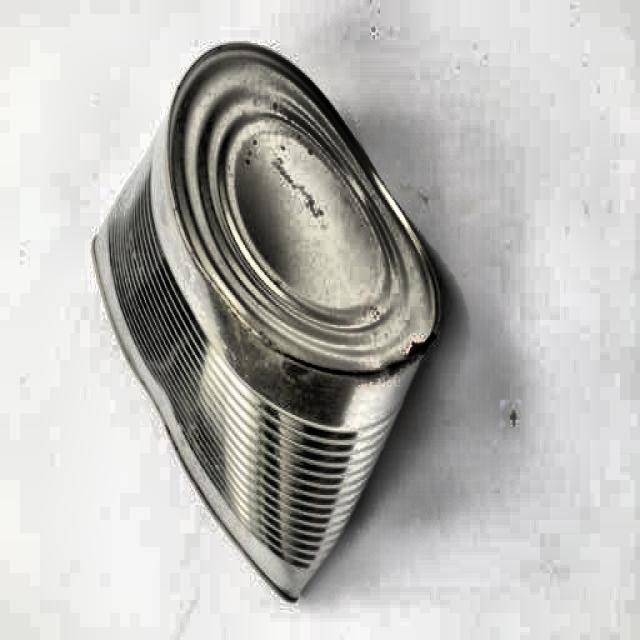metal: (88, 41, 450, 604)
